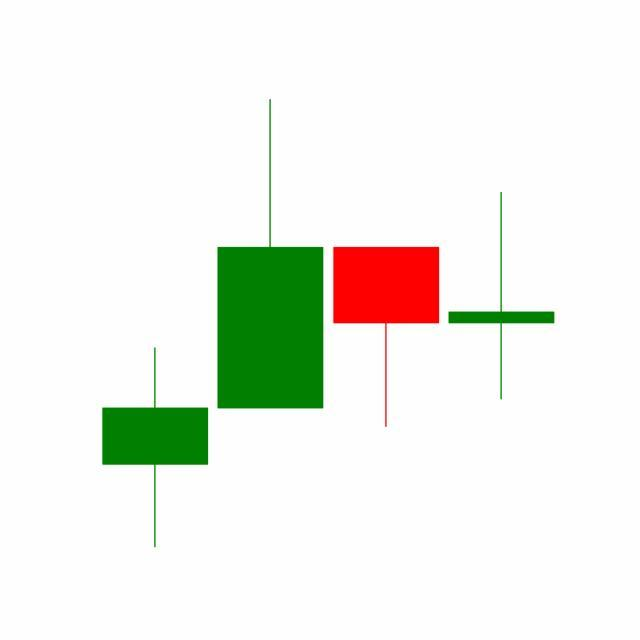Hammer: (329, 245, 445, 430)
